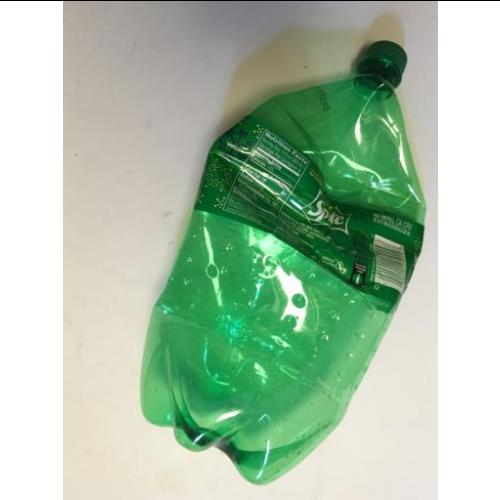plastic: (139, 40, 427, 484)
